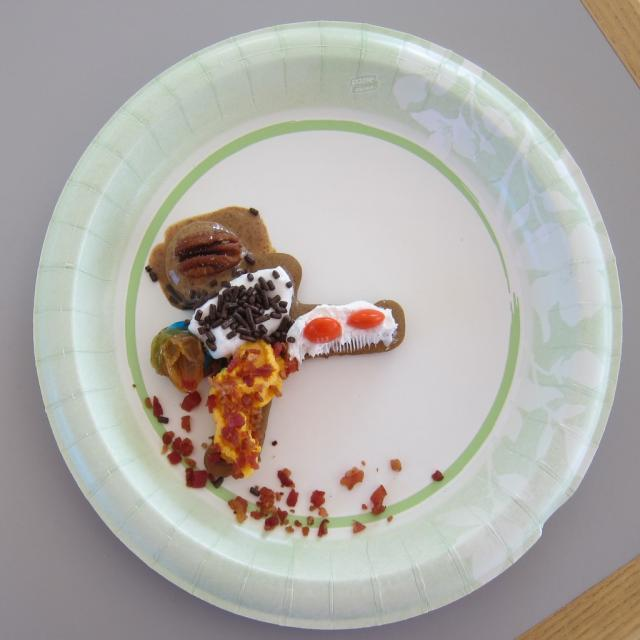ceramic plate: (38, 23, 623, 640)
